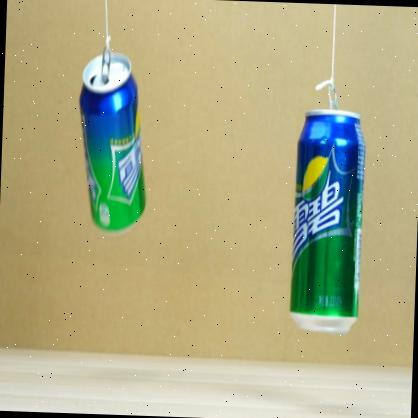can: (288, 105, 366, 334), (75, 48, 153, 233)
